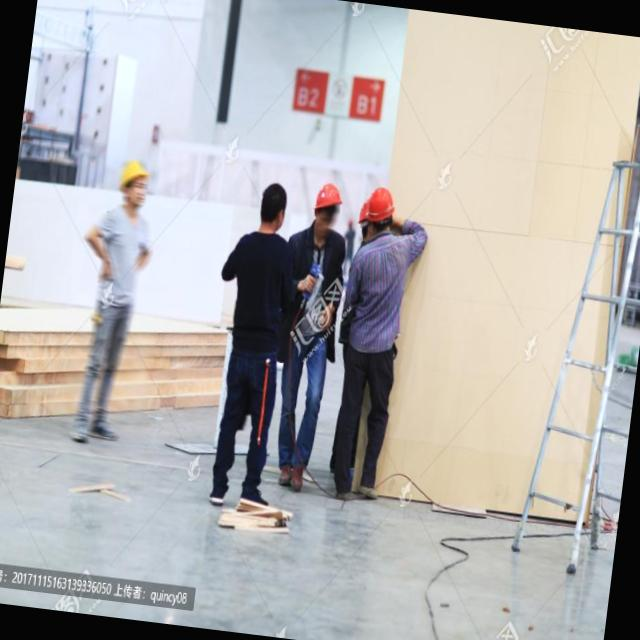helmet: (362, 175, 400, 238), (254, 175, 298, 228), (112, 157, 154, 199), (311, 178, 348, 220)
no-vest: (211, 225, 293, 359), (278, 222, 356, 360), (78, 193, 154, 313), (345, 234, 417, 360)
